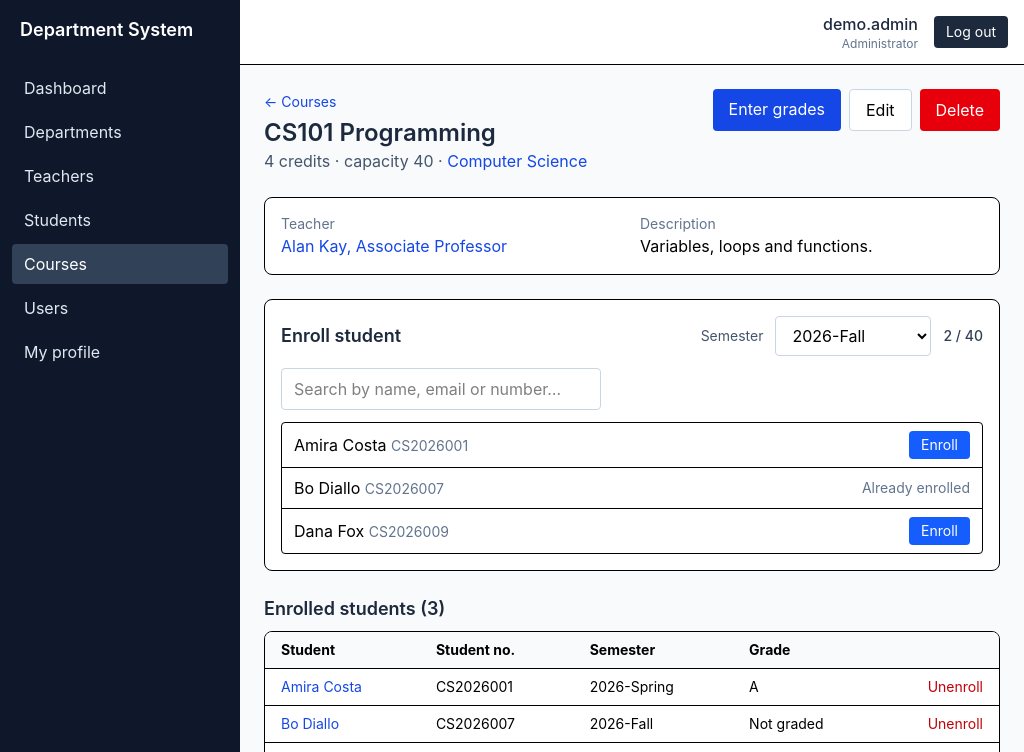
Test case: errors are shown clearly › the message clears when another semester is chosen
Click the button with aria-label "Enroll Dana Fox": x=940, y=531 [909,517,970,545]
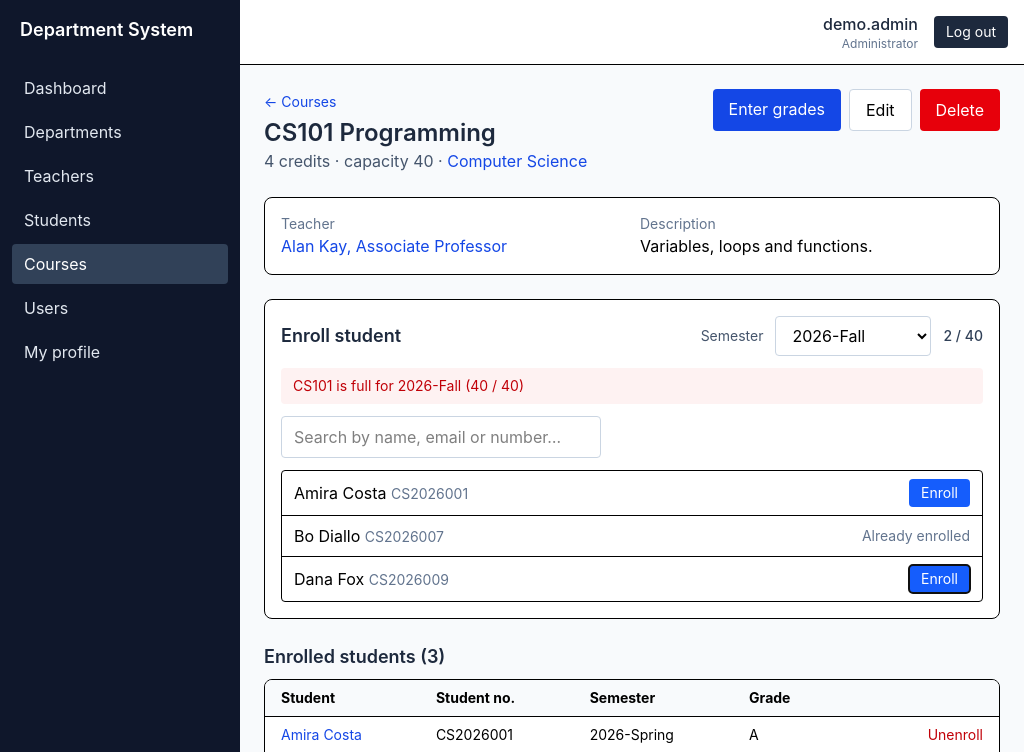
Expected: the message "CS101 is full for 2026-Fall (40 / 40)" is shown, [281,368,983,404]
Select "2027-Spring" in the dropdown labelled "Semester": x=854, y=336 [776,316,932,356]
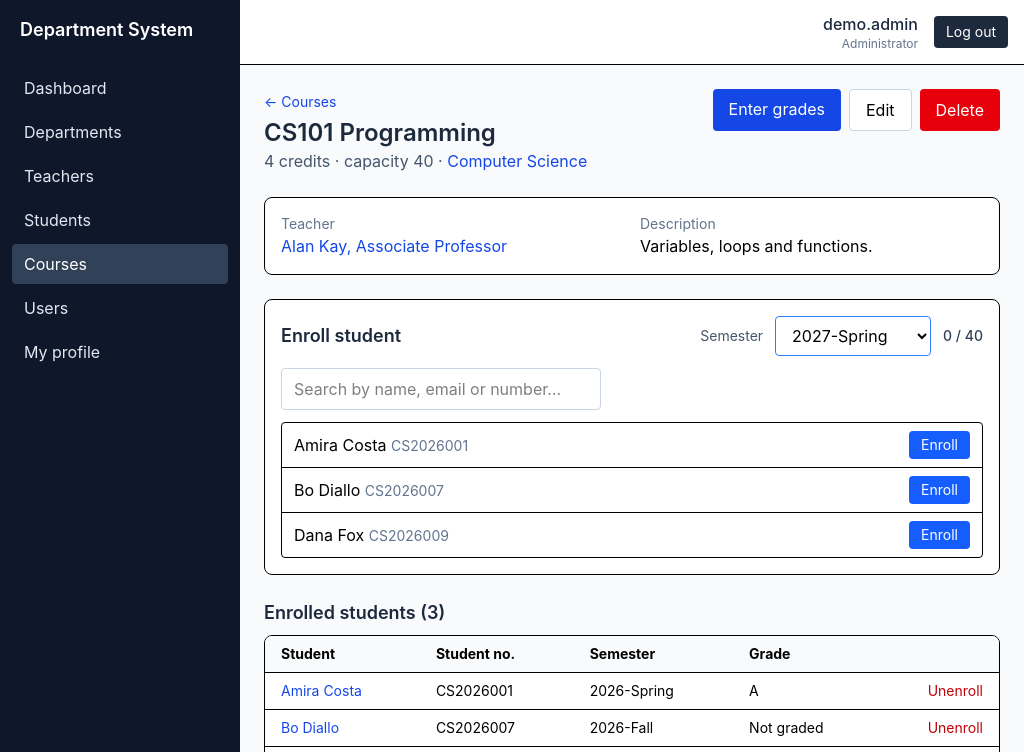
Expected: the message "CS101 is full for 2026-Fall (40 / 40)" is gone
